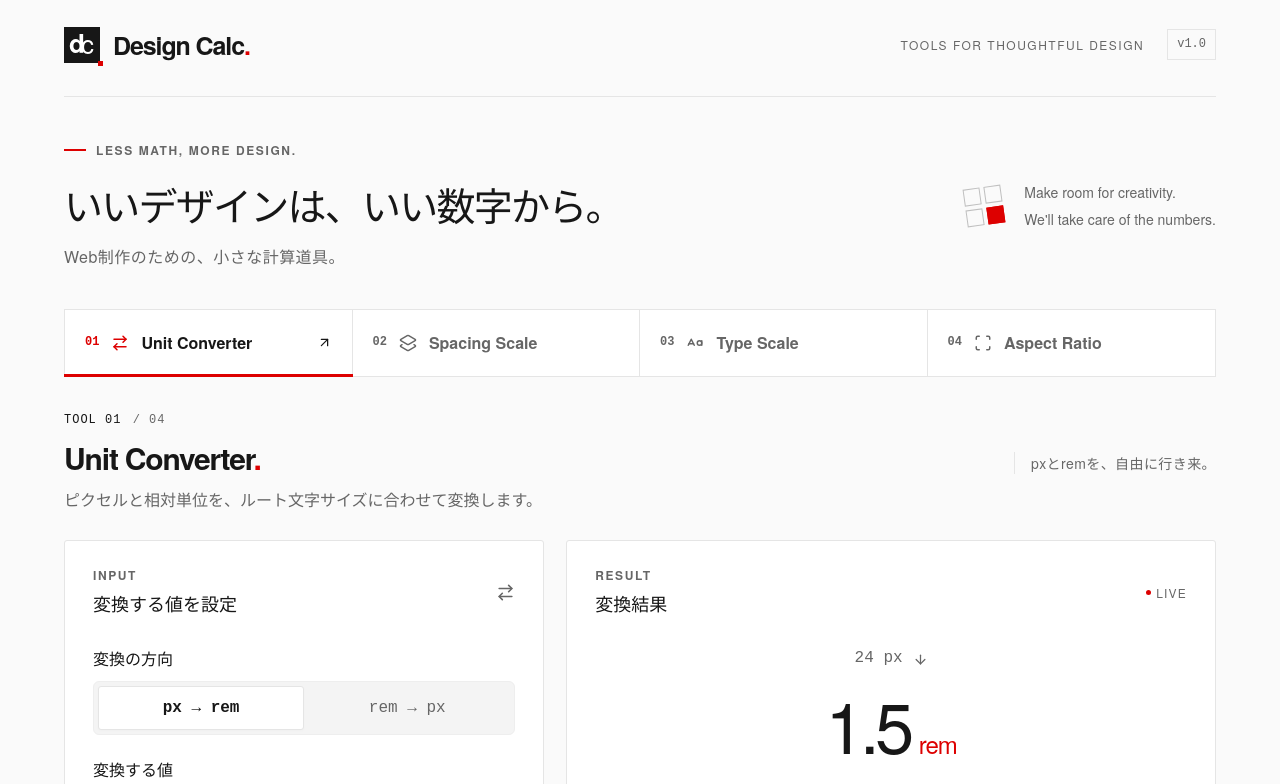
Test: calculator workflows › switches unit direction
Click the button "rem → px": (407, 708) [304,686,510,730]
(page scrolled)
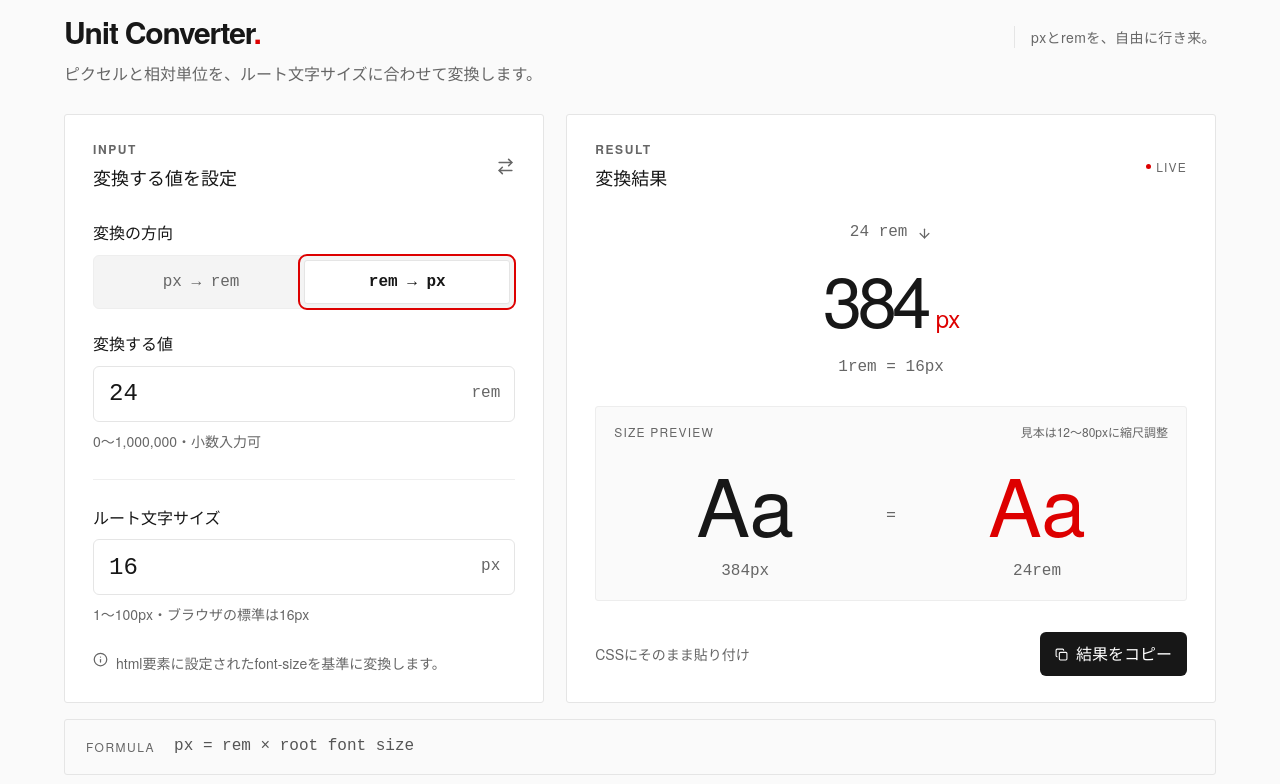
Replace the text in the field labelled "変換する値" with "1.25": (304, 394) [93,366,515,422]
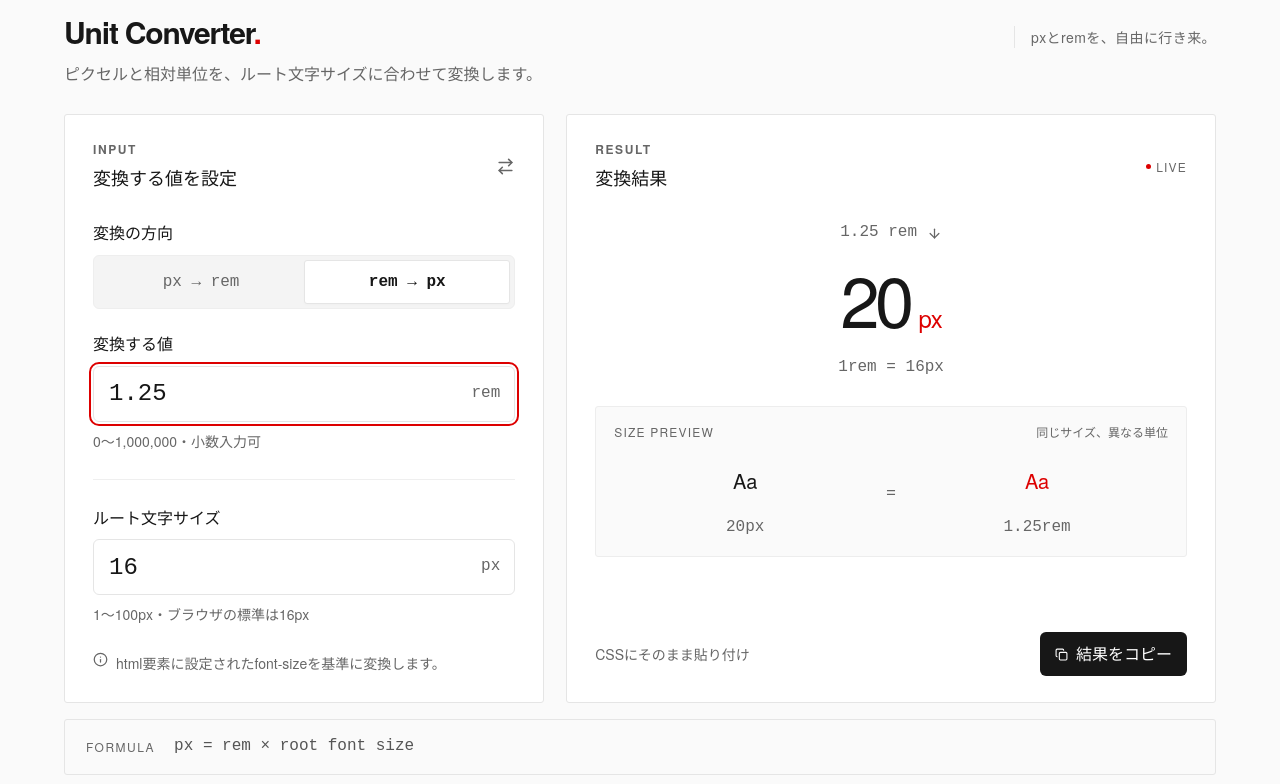
Expected: the element named "変換結果" reads "20px", [840,247,942,348]
